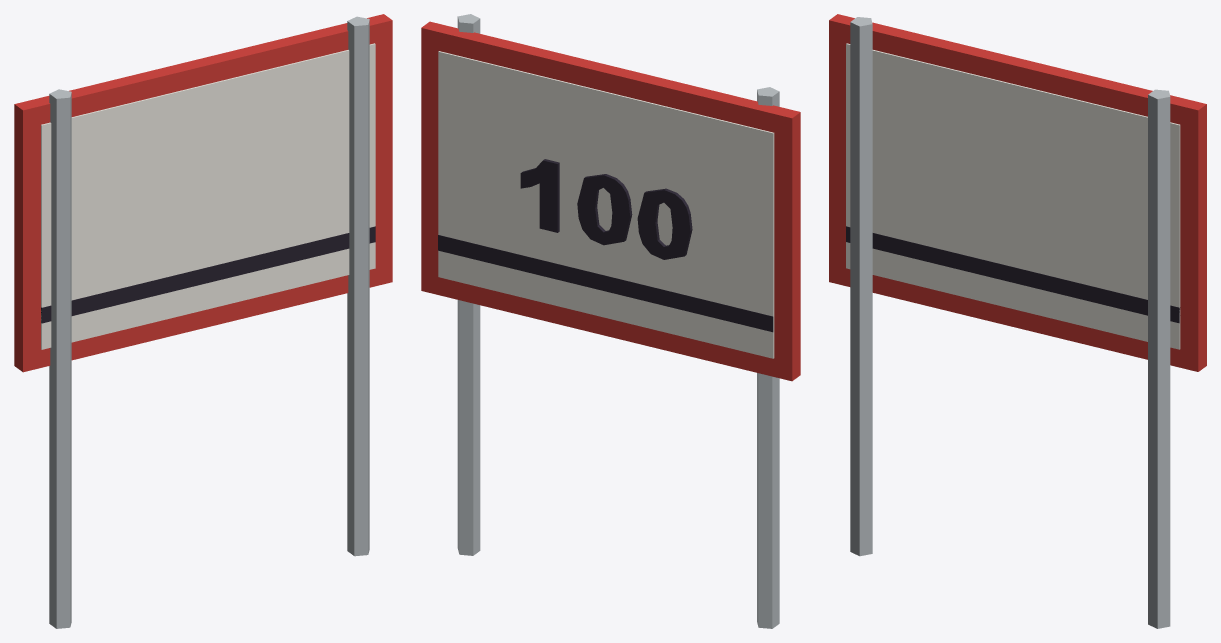
File: distance_board_100.glb
3 views of the same model, side by side, from view 1: azimuth 30°, elevation 25°; view 2: azimuth 150°, elevation 25°; view 3: azimuth 330°, elevation 25° (orthographic).
Visible parts, largest first — view 1: distance_board_100; view 2: distance_board_100; view 3: distance_board_100.
Part boxes in pixels (x1=…): distance_board_100: x1=14, y1=14, x2=392, y2=628; distance_board_100: x1=421, y1=14, x2=800, y2=628; distance_board_100: x1=829, y1=14, x2=1206, y2=628.
Bounding box in the file's own units: 1.24 × 1.7 × 0.1153.
